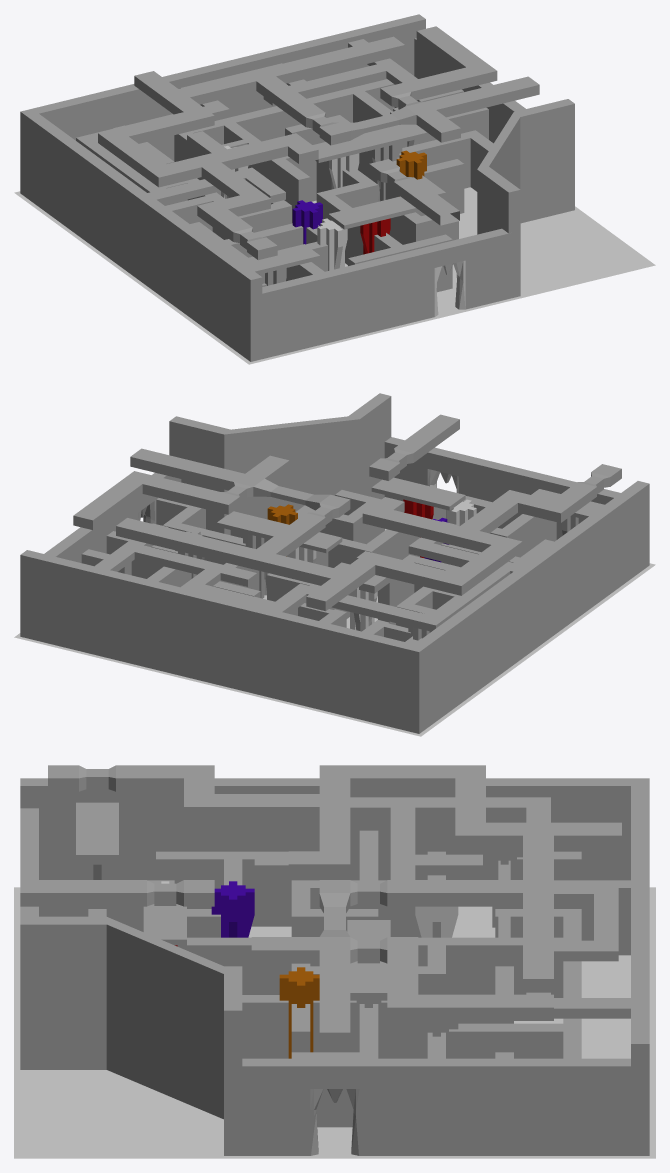
File: Level2blend.obj
3 views of the same model, one above another, from view 1: azimuth 30°, elevation 25°; view 2: azimuth 150°, elevation 25°; view 3: azimuth 270°, elevation 25° (orthographic). The views are drawn at different scales.
Visible parts, largest first — view 1: tür.001_Cube.063, Plane; view 2: tür.001_Cube.063, Plane; view 3: tür.001_Cube.063, Plane.
Boxes of the visible parts, box(x1,y1,x2,y2) form: tür.001_Cube.063: box(20, 14, 574, 361); Plane: box(14, 187, 655, 364); tür.001_Cube.063: box(20, 393, 649, 733); Plane: box(14, 529, 655, 736); tür.001_Cube.063: box(20, 765, 649, 1155); Plane: box(14, 887, 655, 1158).
Bounding box in the file's own units: 52.03 × 13 × 52.03.
